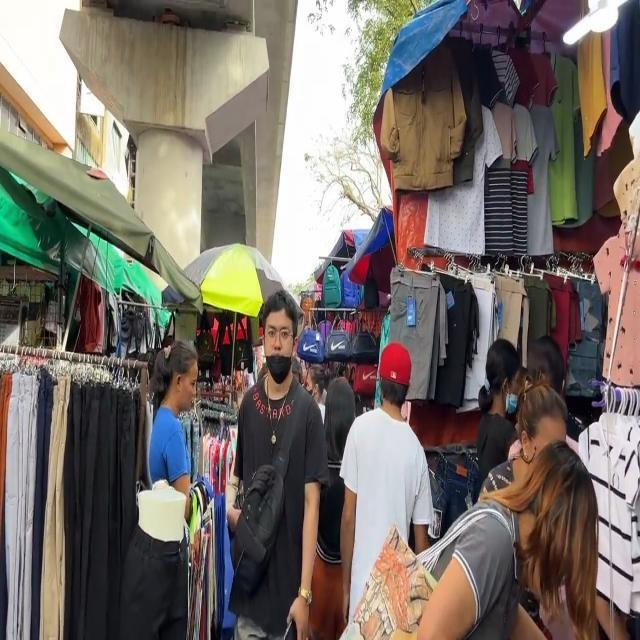hairnet: (263, 342, 293, 382), (505, 383, 518, 414)
